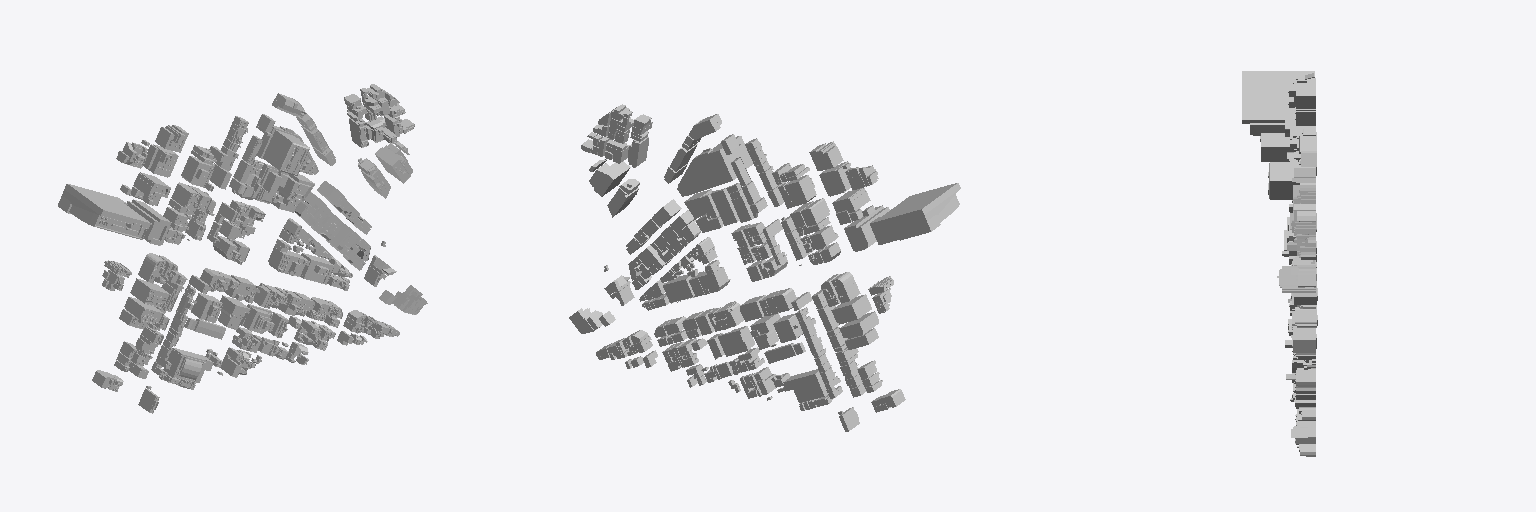
Rendered from 533946123_bldg_6677.obj.
The picture shows the model from 3 angles: view 1: azimuth 30°, elevation 25°; view 2: azimuth 150°, elevation 25°; view 3: azimuth 270°, elevation 25°; orthographic projection.
Bounding box in the file's own units: 697 × 514 × 126.